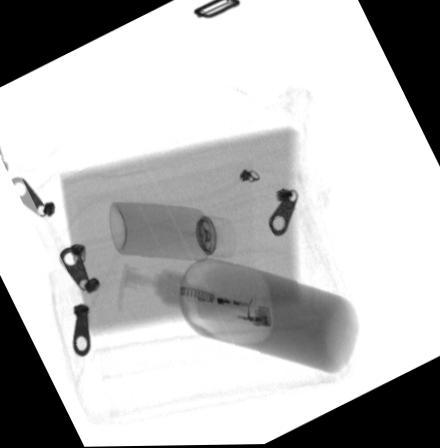Lighter: (197, 291, 269, 328)
Sprayer: (108, 201, 236, 262)
